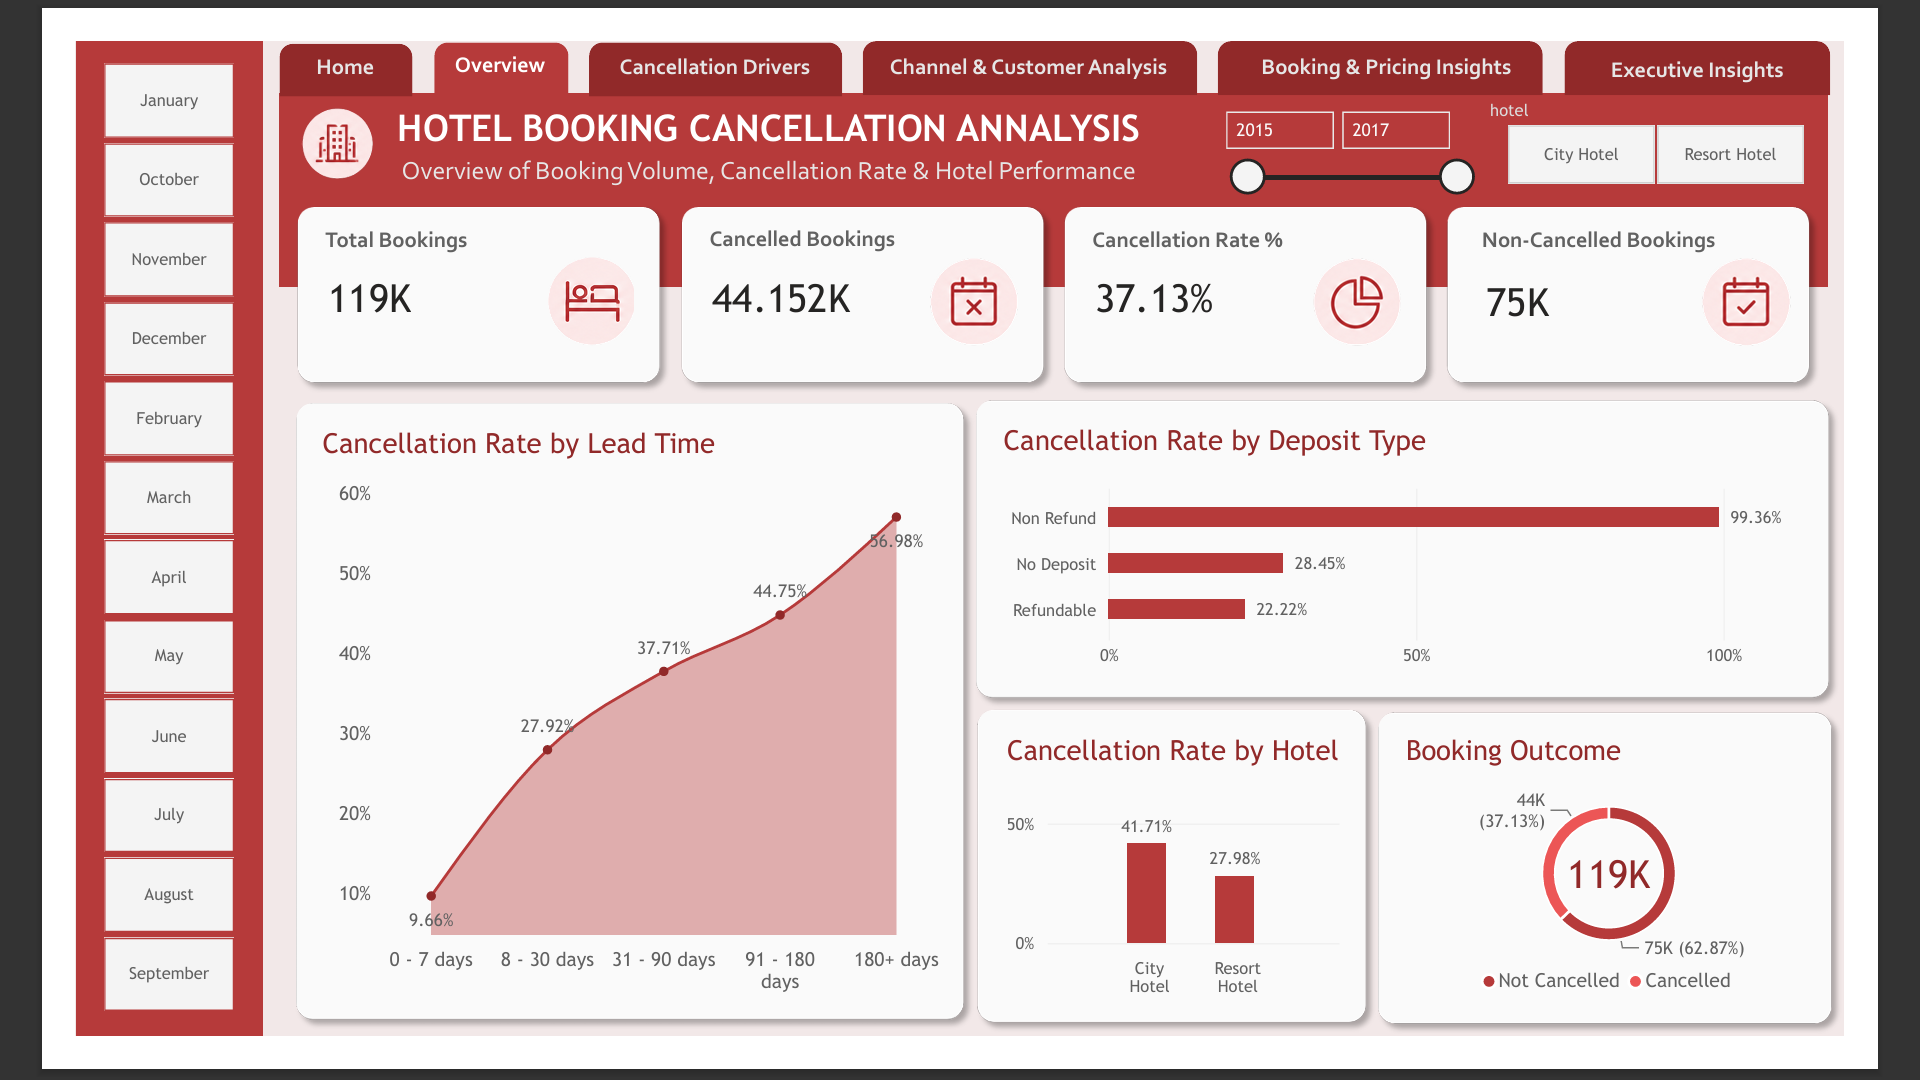

The dashboard page shown, as its layout file describes it:
{"tool":"powerbi","page":{"name":"Overview","canvas":[1280,720],"ordinal":1},"visuals":[{"type":"shape","box":[148.2,38.3,1120.8,140],"z":0,"group":"g6"},{"type":"textbox","box":[198.9,47,606.4,35.1],"z":0,"group":"g4"},{"type":"shape","box":[933.8,476.5,346.2,243.7],"z":0},{"type":"shape","box":[372,0.7,182.6,39],"z":1000,"group":"g6"},{"type":"textbox","box":[234.9,82,533.5,26.9],"z":1000,"group":"g4"},{"type":"group","id":"g1","title":"Group 2","box":[644.1,475,299.2,243.7],"z":1000},{"type":"shape","box":[827.3,0,234.9,39],"z":2000,"group":"g6"},{"type":"group","id":"g2","title":"Group 2","box":[150.8,253.2,501,464.5],"z":2000},{"type":"shape","box":[570.1,0,241.6,39],"z":3000,"group":"g6"},{"type":"group","id":"g3","title":"Group 2","box":[643.3,250.9,634.6,232.8],"z":3000},{"type":"shape","box":[1.2,0,134.7,720.5],"z":4000},{"type":"shape","box":[259.6,0.6,96.8,39],"z":4000,"group":"g6"},{"type":"shape","box":[1077.8,0.3,192,39],"z":5000,"group":"g6"},{"type":"donutChart","title":"Booking Outcome","fields":{"Category":["hotel_bookings.Booking_Status"],"Y":[" Measures.Total Bookings"]},"box":[947.1,487.4,326.2,223.6],"z":5000},{"type":"shape","box":[148.2,2.1,95.7,37.8],"z":6000,"group":"g6"},{"type":"clusteredColumnChart","title":"Cancellation Rate by Hotel","fields":{"Y":[" Measures.Cancellation Rate"],"Category":["hotel_bookings.hotel"]},"box":[657.5,487.4,273.9,223.2],"z":6000},{"type":"group","id":"g4","title":"Group 3","box":[198.9,47,606.4,61.8],"z":7000,"group":"g6"},{"type":"lineChart","title":"Cancellation Rate by Lead Time","fields":{"Y":[" Measures.Cancellation Rate"],"Category":["hotel_bookings.lead_time_groups"]},"box":[162.9,265.4,488.6,442.8],"z":7000},{"type":"group","id":"g5","title":"Group 5","box":[145.8,7.1,905.2,29.9],"z":8000,"group":"g6"},{"type":"barChart","title":"Cancellation Rate by Deposit Type","fields":{"Category":["hotel_bookings.deposit_type"],"Y":[" Measures.Cancellation Rate"]},"box":[655.1,261.8,610.8,211.3],"z":8000},{"type":"textbox","box":[1102.6,10.6,142.4,25.3],"z":9000,"group":"g6"},{"type":"slicer","fields":{"Values":["hotel_bookings.arrival_date_month"]},"box":[0,14.3,134.3,690],"z":9000},{"type":"group","id":"g6","title":"Group 1","box":[145.8,0,1124,178.3],"z":10000},{"type":"slicer","fields":{"Values":["hotel_bookings.hotel"]},"box":[1016.4,42.8,254.1,62.3],"z":11000},{"type":"slicer","fields":{"Values":["hotel_bookings.arrival_date_year"]},"box":[824.6,46.4,191.8,72.1],"z":12000},{"type":"group","id":"g7","title":"Group 2","box":[984.5,110.5,279.9,144.8],"z":13000},{"type":"group","id":"g8","title":"Group 2","box":[707.1,110.5,279.9,144.8],"z":14000},{"type":"shape","box":[152.3,110.5,279.9,144.8],"z":15000,"group":"g10"},{"type":"group","id":"g9","title":"Group 2","box":[429.7,110.5,279.9,144.8],"z":15000},{"type":"shape","box":[429.7,110.5,279.9,144.8],"z":15000,"group":"g9"},{"type":"shape","box":[707.1,110.5,279.9,144.8],"z":15000,"group":"g8"},{"type":"shape","box":[984.5,110.5,279.9,144.8],"z":15000,"group":"g7"},{"type":"shape","box":[643.3,250.9,634.6,232.8],"z":15000,"group":"g3"},{"type":"shape","box":[150.8,253.2,501,464.5],"z":15000,"group":"g2"},{"type":"shape","box":[644.1,475,299.2,243.7],"z":15000,"group":"g1"},{"type":"group","id":"g10","title":"Group 2","box":[152.3,110.5,279.9,144.8],"z":16000},{"type":"cardVisual","title":"Total Bookings","fields":{"Data":[" Measures.Cancelled Bookings"]},"box":[444.8,152.2,253.4,65.1],"z":16000,"group":"g9"},{"type":"cardVisual","title":"Total Bookings","fields":{"Data":[" Measures.Total Bookings"]},"box":[167.7,152.7,253.4,65.1],"z":16000,"group":"g10"},{"type":"cardVisual","title":"Total Bookings","fields":{"Data":[" Measures.Cancellation Rate"]},"box":[722.5,152.7,253.4,65.1],"z":16000,"group":"g8"},{"type":"cardVisual","title":"Total Bookings","fields":{"Data":[" Measures.Non-Cancelled Bookings"]},"box":[1005.1,155.1,253.4,65.1],"z":16000,"group":"g7"},{"type":"image","box":[164.1,43.4,51.9,61.5],"z":16001},{"type":"textbox","box":[458.4,132.9,228,20.5],"z":17000,"group":"g9"},{"type":"textbox","box":[181.3,133.4,228,20.5],"z":17000,"group":"g10"},{"type":"textbox","box":[736.1,133.4,228,20.5],"z":17000,"group":"g8"},{"type":"textbox","box":[1018.4,133.4,228,20.5],"z":17000,"group":"g7"},{"type":"image","box":[616.6,155.1,66.4,65],"z":18000,"group":"g9"},{"type":"image","box":[339.5,155.6,66.4,65],"z":18000,"group":"g10"},{"type":"image","box":[894.3,155.6,66.4,65],"z":18000,"group":"g8"},{"type":"image","box":[1176.6,155.6,66.4,65],"z":18000,"group":"g7"},{"type":"textbox","box":[145.8,9.1,99.1,27.8],"z":19000,"group":"g5"},{"type":"textbox","box":[267.2,7.1,80.8,26.5],"z":20000,"group":"g5"},{"type":"textbox","box":[376.4,9.1,172.5,27.8],"z":21000,"group":"g5"},{"type":"textbox","box":[577.9,9,227.1,25.6],"z":22000,"group":"g5"},{"type":"textbox","box":[847.3,9,203.7,23.4],"z":23000,"group":"g5"}]}

Visuals, with their boxes on the page's 1280x720 design canvas (x1, y1, x2, y2). These are canvas units, not pixel positions in the 1920x1080 screenshot, which may show the page scaled, cropped or inside an application window:
shape: 148, 38, 1269, 178
textbox: 199, 47, 805, 82
shape: 934, 476, 1280, 720
shape: 372, 1, 555, 40
textbox: 235, 82, 768, 109
"Group 2" group: 644, 475, 943, 719
shape: 827, 0, 1062, 39
"Group 2" group: 151, 253, 652, 718
shape: 570, 0, 812, 39
"Group 2" group: 643, 251, 1278, 484
shape: 1, 0, 136, 720
shape: 260, 1, 356, 40
shape: 1078, 0, 1270, 39
"Booking Outcome" donutChart: 947, 487, 1273, 711
shape: 148, 2, 244, 40
"Cancellation Rate by Hotel" clusteredColumnChart: 658, 487, 931, 711
"Group 3" group: 199, 47, 805, 109
"Cancellation Rate by Lead Time" lineChart: 163, 265, 652, 708
"Group 5" group: 146, 7, 1051, 37
"Cancellation Rate by Deposit Type" barChart: 655, 262, 1266, 473
textbox: 1103, 11, 1245, 36
slicer - hotel_bookings.arrival_date_month: 0, 14, 134, 704
"Group 1" group: 146, 0, 1270, 178
slicer - hotel_bookings.hotel: 1016, 43, 1270, 105
slicer - hotel_bookings.arrival_date_year: 825, 46, 1016, 118
"Group 2" group: 984, 110, 1264, 255
"Group 2" group: 707, 110, 987, 255
shape: 152, 110, 432, 255
"Group 2" group: 430, 110, 710, 255
shape: 430, 110, 710, 255
shape: 707, 110, 987, 255
shape: 984, 110, 1264, 255
shape: 643, 251, 1278, 484
shape: 151, 253, 652, 718
shape: 644, 475, 943, 719
"Group 2" group: 152, 110, 432, 255
"Total Bookings" cardVisual: 445, 152, 698, 217
"Total Bookings" cardVisual: 168, 153, 421, 218
"Total Bookings" cardVisual: 722, 153, 976, 218
"Total Bookings" cardVisual: 1005, 155, 1258, 220
image: 164, 43, 216, 105
textbox: 458, 133, 686, 153
textbox: 181, 133, 409, 154
textbox: 736, 133, 964, 154
textbox: 1018, 133, 1246, 154
image: 617, 155, 683, 220
image: 340, 156, 406, 221
image: 894, 156, 961, 221
image: 1177, 156, 1243, 221
textbox: 146, 9, 245, 37
textbox: 267, 7, 348, 34
textbox: 376, 9, 549, 37
textbox: 578, 9, 805, 35
textbox: 847, 9, 1051, 32
